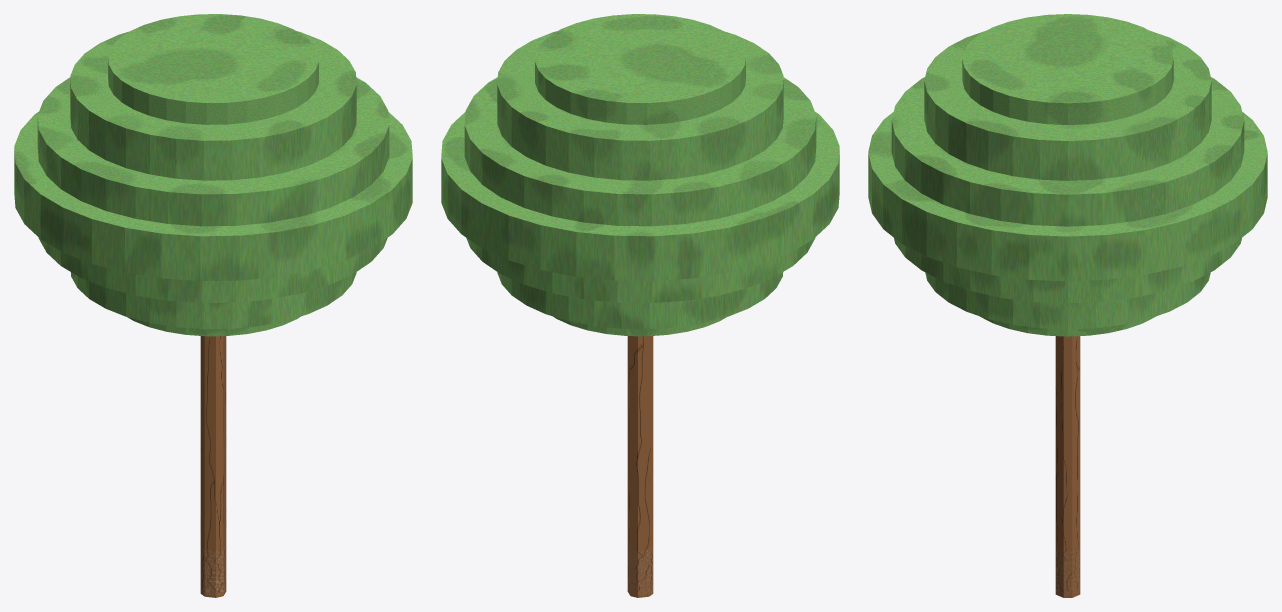
File: m_tree7.fbx
3 views of the same model, side by side, from view 1: azimuth 30°, elevation 25°; view 2: azimuth 150°, elevation 25°; view 3: azimuth 270°, elevation 25° (orthographic).
Visible parts, largest first — view 1: Leaves, Trunk, Trunk Base; view 2: Leaves, Trunk, Trunk Base; view 3: Leaves, Trunk, Trunk Base.
Part boxes in pixels (x1,y1,x2,y2): Leaves: (14, 14, 412, 336); Trunk: (200, 336, 226, 549); Trunk Base: (200, 544, 226, 597); Leaves: (441, 14, 839, 336); Trunk: (627, 336, 653, 549); Trunk Base: (627, 544, 653, 597); Leaves: (868, 14, 1267, 336); Trunk: (1055, 336, 1080, 549); Trunk Base: (1055, 547, 1080, 597).
Size of the model in its own units: 5.25 by 7.74 by 5.25.
